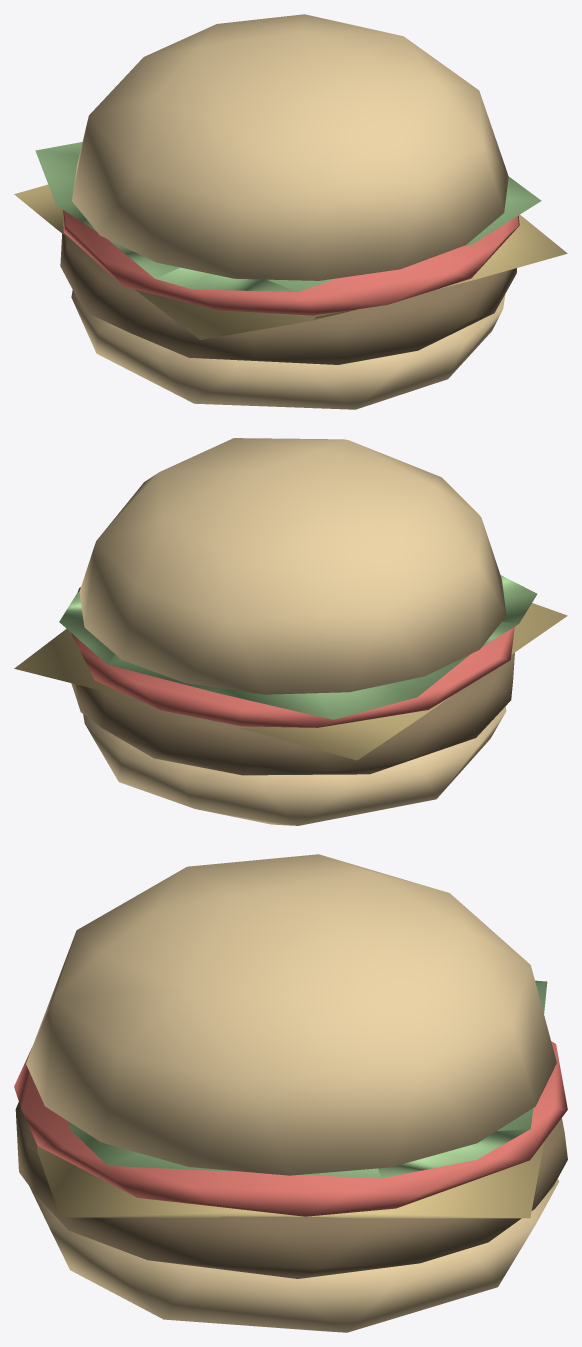
The model's file is hamburger.fbx.
The picture shows the model from 3 angles, top to bottom: view 1: azimuth 30°, elevation 25°; view 2: azimuth 150°, elevation 25°; view 3: azimuth 270°, elevation 25°; orthographic projection. The views are drawn at different scales.
Visible parts, largest first — view 1: Sphere.001; view 2: Sphere.001; view 3: Sphere.001.
Boxes of the visible parts, x1,y1,x2,y2 form: Sphere.001: (14,14,567,409); Sphere.001: (14,438,567,825); Sphere.001: (14,854,567,1332).
Size of the model in its own units: 20.06 by 14.15 by 20.04.
